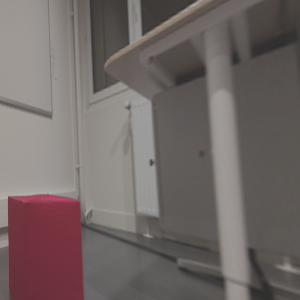medium: (5, 192, 86, 300)
